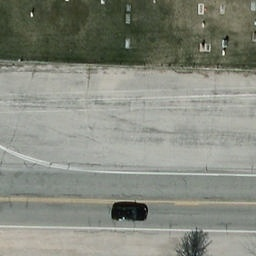car: (108, 202, 152, 220)
